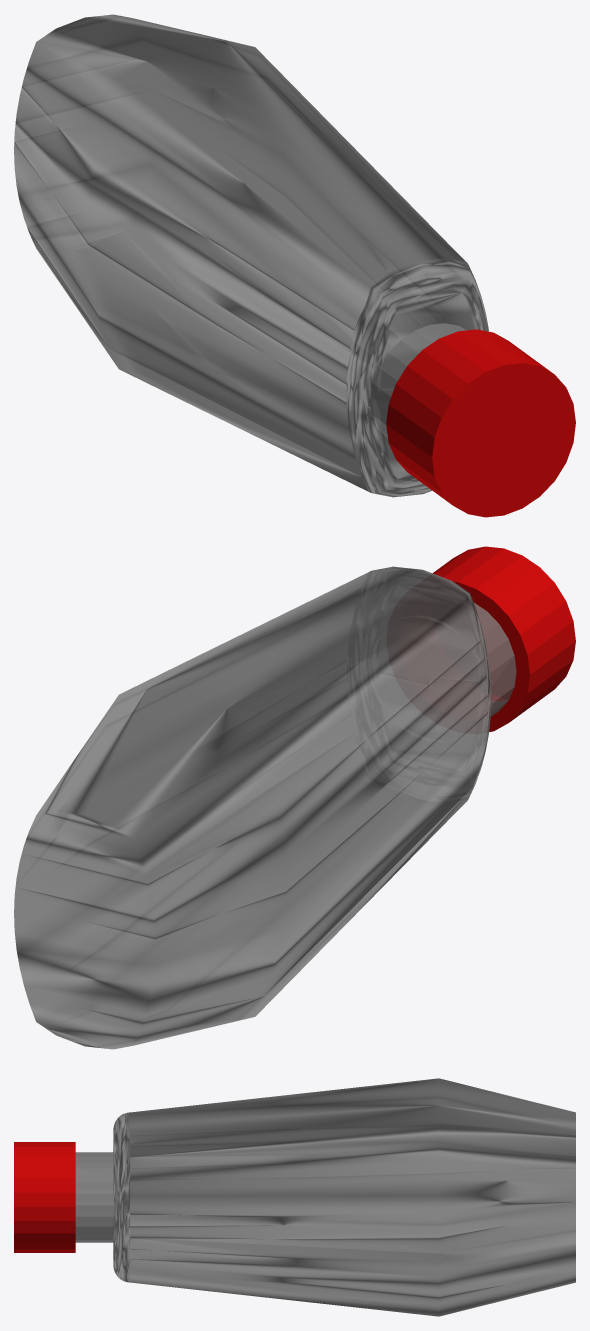
File: model_align.obj
3 renders of one model, top to bottom at view 1: azimuth 30°, elevation 25°; view 2: azimuth 150°, elevation 25°; view 3: azimuth 270°, elevation 25°, orthographic. The views are drawn at different scales.
Size of the model in its own units: 0.055 by 0.0859 by 0.2013.
